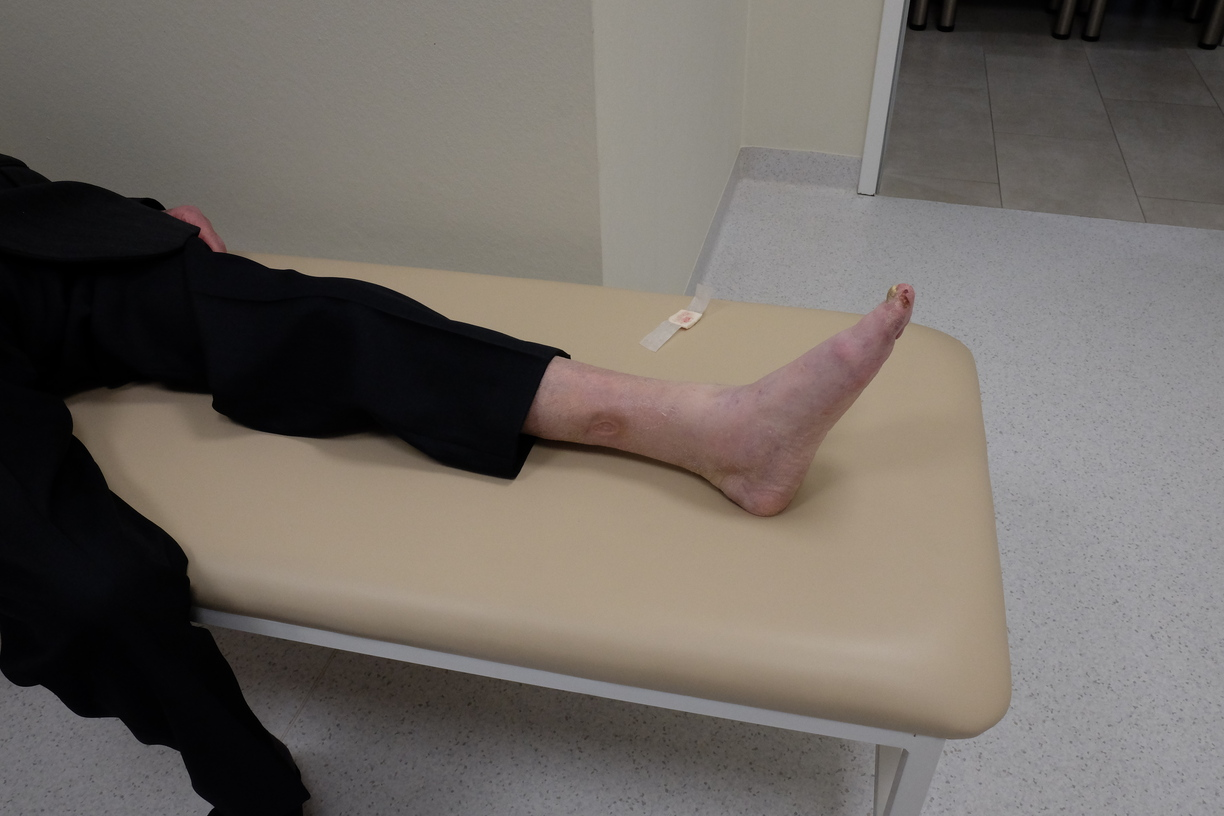wound: (587, 414, 622, 441)
